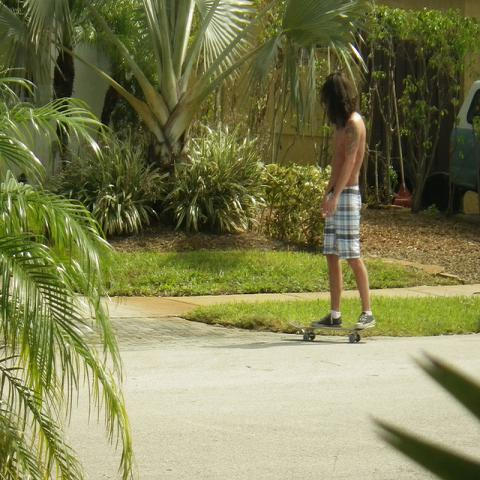truck: (448, 81, 479, 195)
